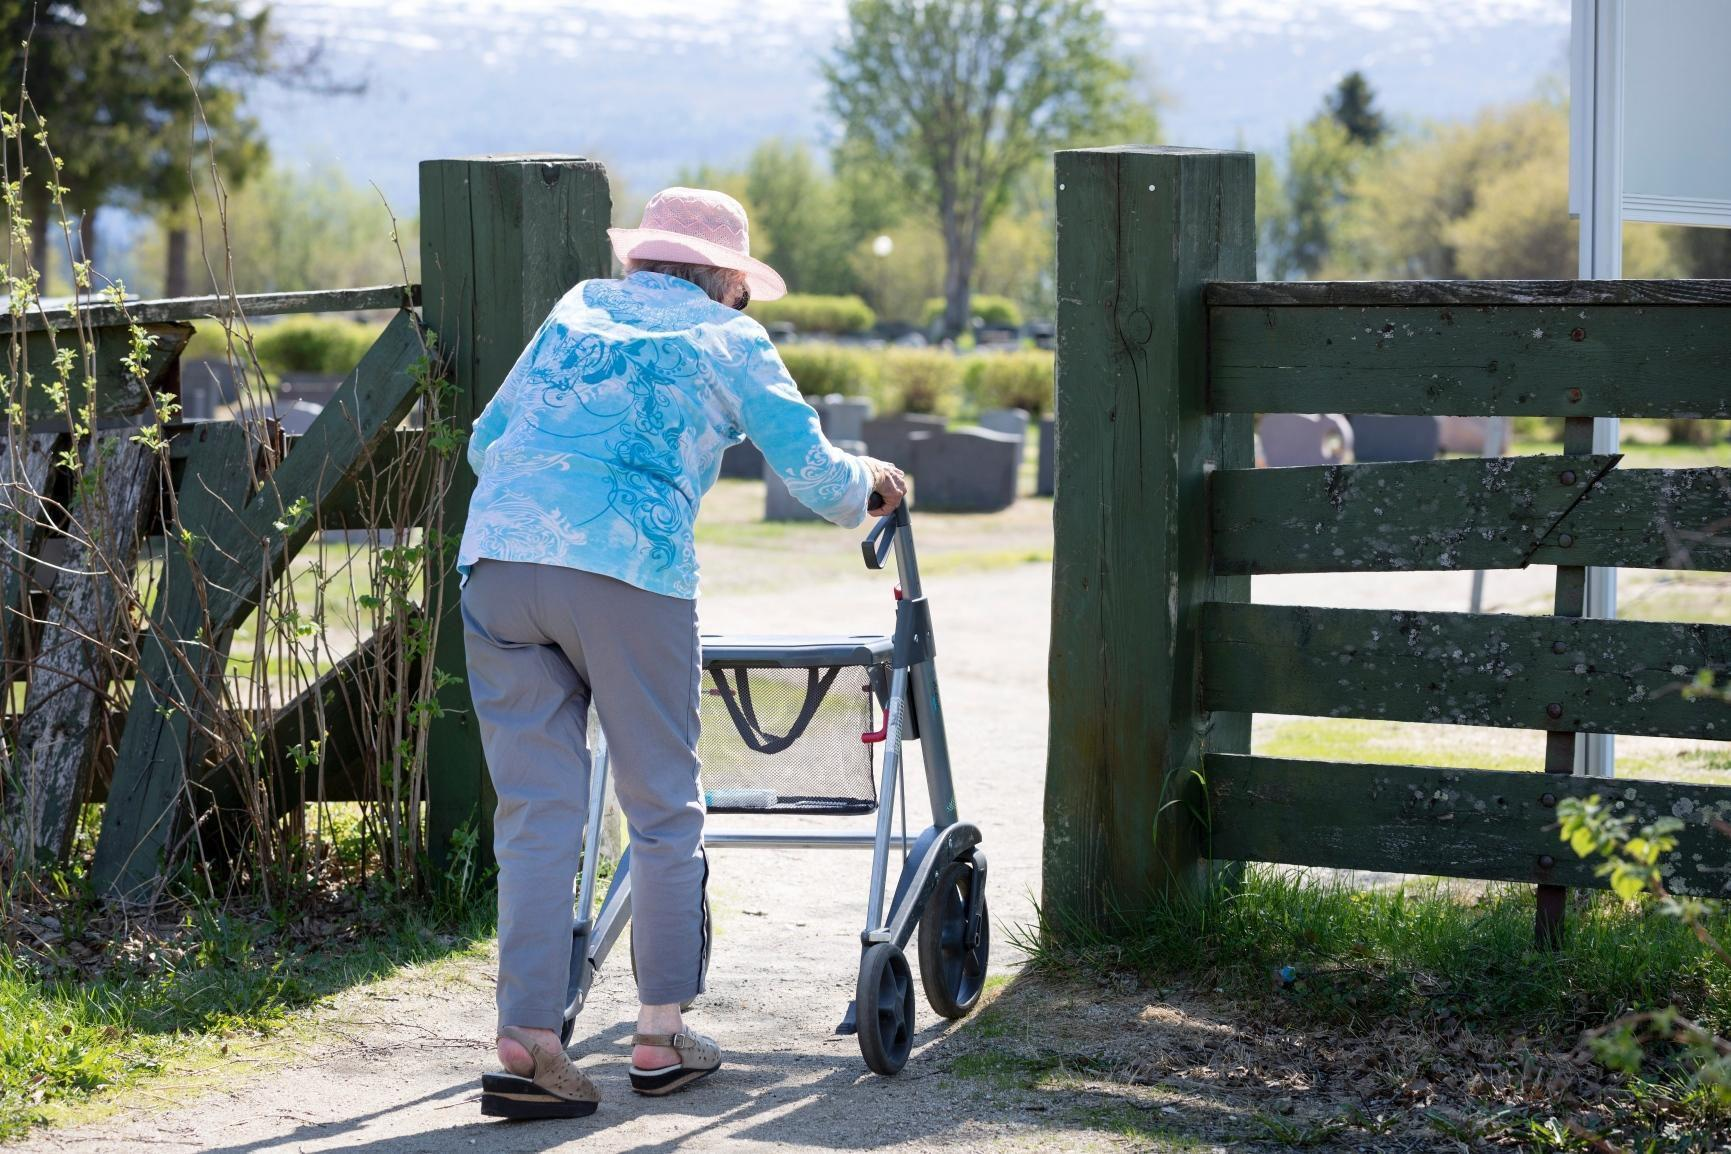walking_frame: (457, 188, 990, 1122)
